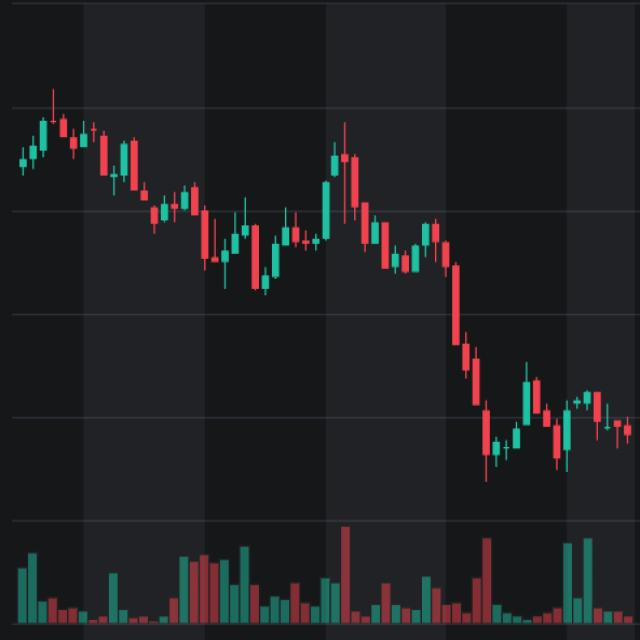Channel-down: (3, 50, 321, 338)
Support-breakout: (230, 137, 501, 471)
